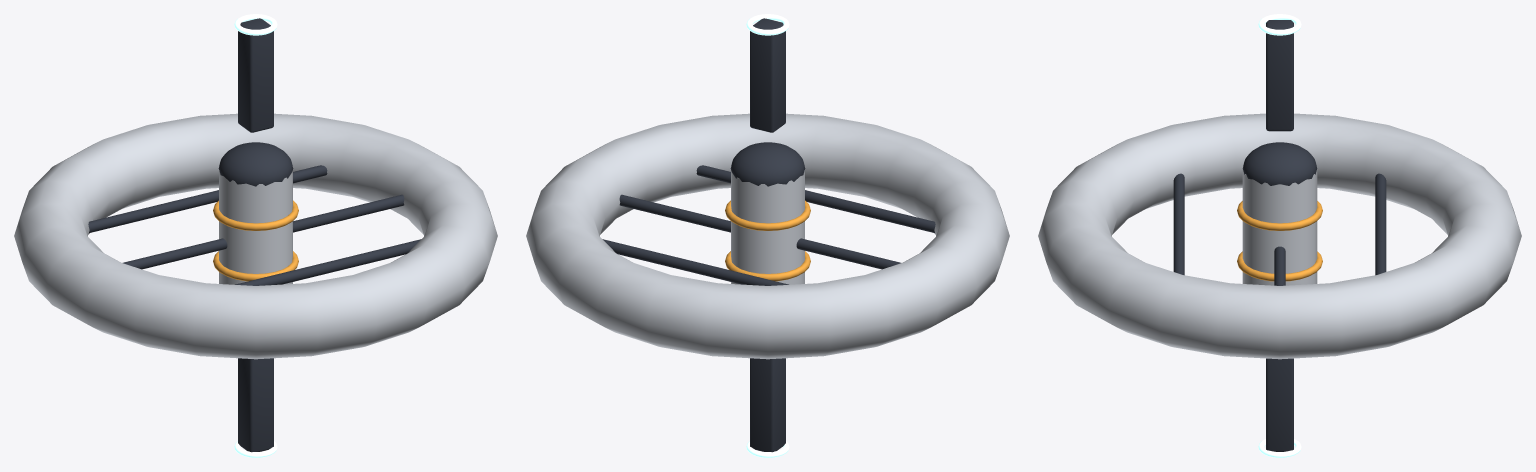
Rendered from orbital_station.glb.
The picture shows the model from 3 angles, left to right: view 1: azimuth 30°, elevation 25°; view 2: azimuth 150°, elevation 25°; view 3: azimuth 270°, elevation 25°; orthographic projection.
Parts seen in each view (by area): view 1: RingHull, Hub, Dock1, Dock-1, CapTop, Spoke2, Spoke5, Spoke0, Spoke3, Spoke4, HubBand, Spoke1 (+2 smaller); view 2: RingHull, Hub, Dock1, Dock-1, CapTop, Spoke4, Spoke1, Spoke0, Spoke3, Spoke2, HubBand, Spoke5 (+2 smaller); view 3: RingHull, Hub, Dock1, Dock-1, CapTop, HubBand, Spoke2, Spoke4, HubBand2, Spoke1, Spoke5, DockLight1.
Part boxes in pixels (box(x1,y1,x2,y2)): RingHull: box(14, 113, 497, 359); Hub: box(219, 170, 292, 284); Dock1: box(238, 18, 273, 132); Dock-1: box(238, 358, 273, 452); CapTop: box(218, 142, 293, 186); Spoke2: box(88, 190, 218, 232); Spoke5: box(283, 239, 421, 283); Spoke0: box(293, 194, 404, 232); Spoke3: box(123, 238, 227, 269); Spoke4: box(235, 262, 331, 285); HubBand: box(213, 200, 298, 230); Spoke1: box(183, 165, 327, 209); RingHull: box(526, 113, 1009, 359); Hub: box(731, 170, 804, 284); Dock1: box(750, 18, 785, 132); Dock-1: box(750, 358, 785, 452); CapTop: box(730, 142, 805, 186); Spoke4: box(805, 190, 935, 232); Spoke1: box(602, 239, 740, 283); Spoke0: box(619, 194, 730, 232); Spoke3: box(796, 238, 900, 269); Spoke2: box(692, 262, 788, 285); HubBand: box(725, 200, 810, 230); Spoke5: box(696, 165, 840, 209); RingHull: box(1038, 113, 1521, 359); Hub: box(1242, 169, 1317, 285); Dock1: box(1266, 20, 1293, 131); Dock-1: box(1266, 358, 1293, 451); CapTop: box(1242, 142, 1317, 185); HubBand: box(1237, 201, 1322, 230); Spoke2: box(1375, 173, 1386, 244); Spoke4: box(1173, 173, 1184, 244); HubBand2: box(1237, 251, 1322, 281); Spoke1: box(1375, 220, 1386, 275); Spoke5: box(1173, 220, 1184, 275); DockLight1: box(1258, 14, 1301, 35).
Bounding box in the file's own units: 51.92 × 50.61 × 51.92.
